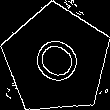O_SE: (24, 28, 88, 91)
